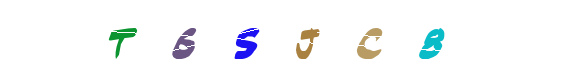6: (148, 0, 228, 80)
8: (392, 0, 472, 80)
C: (287, 0, 367, 80)
J: (245, 0, 325, 80)
S: (206, 0, 286, 80)
T: (81, 0, 161, 80)
